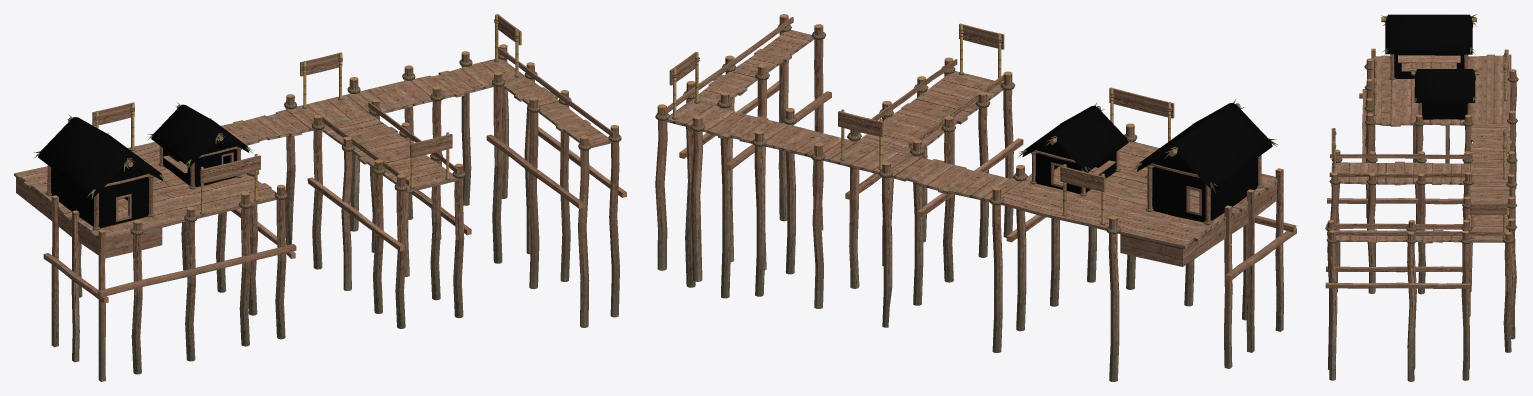
File: beachdock.glb
3 views of the same model, side by side, from view 1: azimuth 30°, elevation 25°; view 2: azimuth 150°, elevation 25°; view 3: azimuth 270°, elevation 25° (orthographic). The views are drawn at different scales.
Parts seen in each view (by area): view 1: B_Dock_Main1, B_DockMain_UW, B_Dock_Roofs, B_Dock_Ropes; view 2: B_Dock_Main1, B_DockMain_UW, B_Dock_Roofs, B_Dock_Ropes; view 3: B_Dock_Main1, B_DockMain_UW, B_Dock_Roofs, B_Dock_Ropes.
Boxes of the visible parts, bbox=[...] form: B_Dock_Main1: bbox=[14, 14, 619, 249]; B_DockMain_UW: bbox=[16, 87, 626, 381]; B_Dock_Roofs: bbox=[33, 102, 252, 199]; B_Dock_Ropes: bbox=[46, 19, 621, 235]; B_Dock_Main1: bbox=[657, 14, 1283, 256]; B_DockMain_UW: bbox=[655, 47, 1296, 381]; B_Dock_Roofs: bbox=[1017, 98, 1278, 192]; B_Dock_Ropes: bbox=[655, 24, 1263, 234]; B_Dock_Main1: bbox=[1327, 17, 1516, 250]; B_DockMain_UW: bbox=[1325, 76, 1516, 381]; B_Dock_Roofs: bbox=[1380, 14, 1479, 103]; B_Dock_Ropes: bbox=[1325, 53, 1518, 244].
Size of the model in its own units: 28.22 by 13.23 by 12.
1 material, 1 textured.
